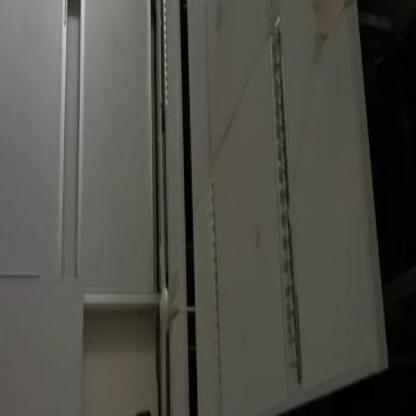light_off: (265, 0, 308, 398), (206, 166, 229, 415)
